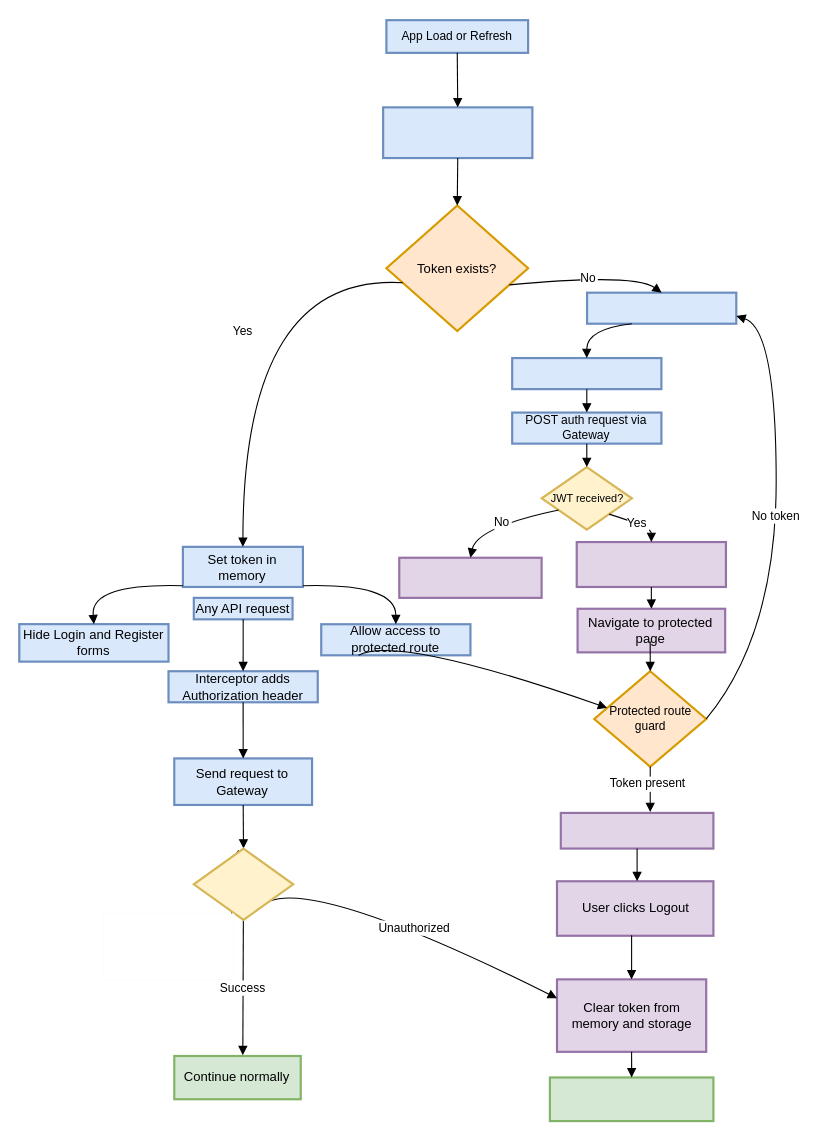
The diagram is 821 pixels wide and 1140 high, and some of its shapes have lost their labels. Each missing label, with the box of its shape:
Load token from localStorage: (382, 106, 533, 159)
Redirect to Login: (548, 1076, 714, 1122)
Render protected page: (559, 811, 714, 849)
Response status: (192, 847, 294, 921)
Show authentication error: (398, 556, 542, 598)
Show Login and Register page: (585, 291, 737, 324)
Store token in localStorage and memory: (575, 540, 726, 588)
User submits Login or Register: (511, 356, 662, 390)
